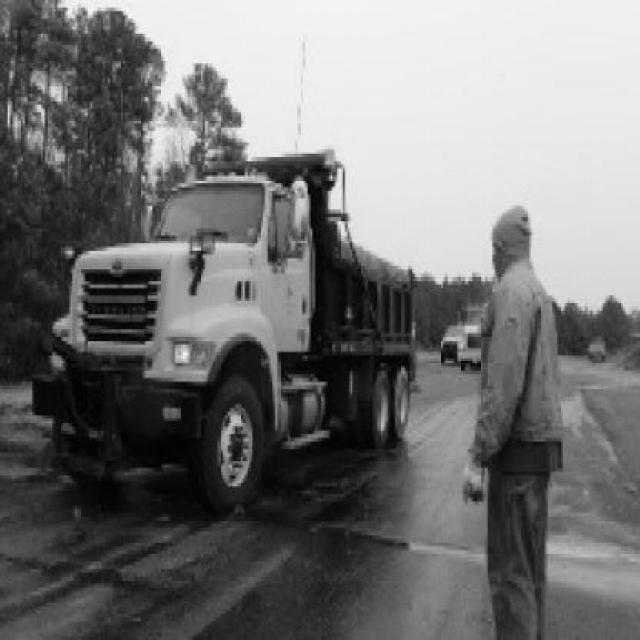Truck- Multi-Axle: (29, 150, 415, 521)
